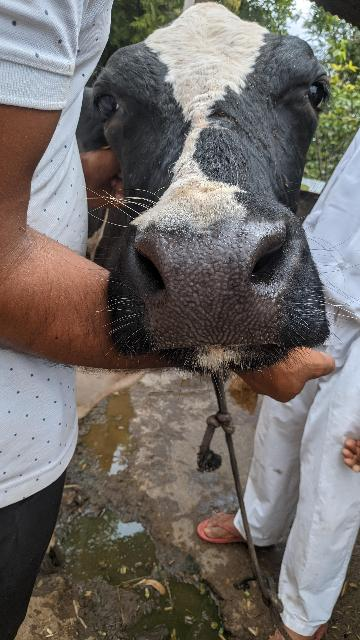Muzzle: (130, 224, 294, 352)
